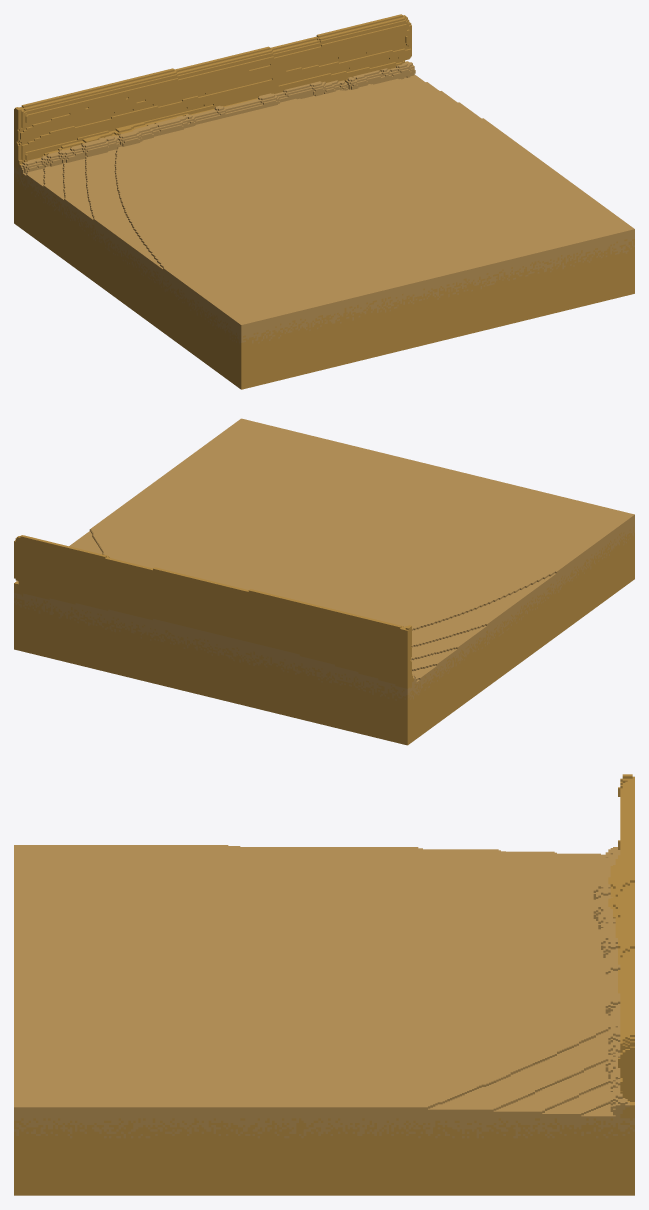
File: Marte-2.obj
3 renders of one model, top to bottom at view 1: azimuth 30°, elevation 25°; view 2: azimuth 150°, elevation 25°; view 3: azimuth 270°, elevation 25°, orthographic. The views are drawn at different scales.
Bounding box in the file's own units: 25.5 × 7.2 × 25.5.
1 material, 1 textured.
